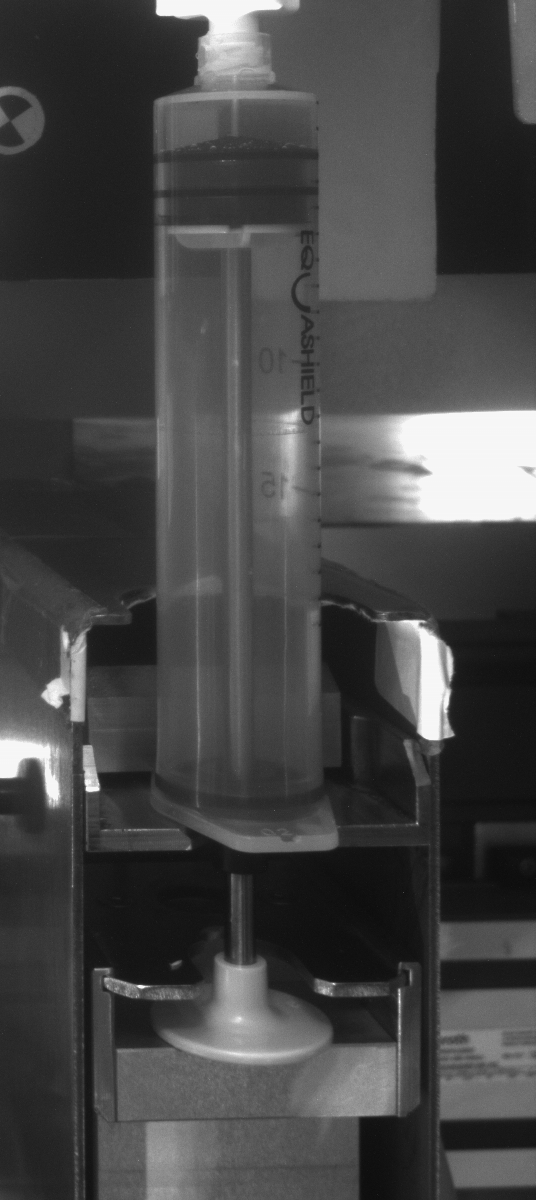piston: (152, 163, 320, 251)
